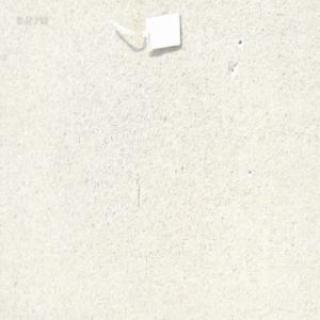LuggageTagtrack_idkeyframe: (106, 10, 182, 58)
